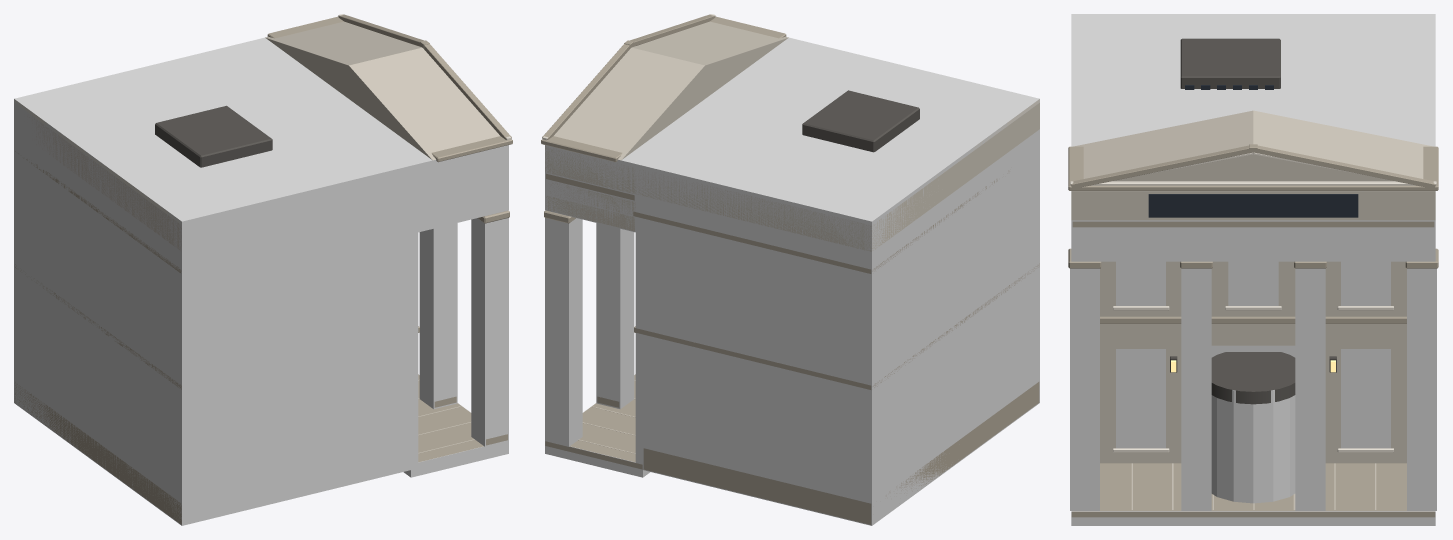
3 views of the same model, side by side, from view 1: azimuth 30°, elevation 25°; view 2: azimuth 150°, elevation 25°; view 3: azimuth 270°, elevation 25° (orthographic). The views are drawn at different scales.
Visible parts, largest first — view 1: col_core, T01_body, col_attic, col_column_-4, col_column_-1, col_portico_floor; view 2: col_core, T01_body, col_column_+4, col_attic, col_column_+1, col_portico_floor; view 3: T01_body, col_core, col_attic, col_drum, col_column_+1, col_column_-1, col_column_+4, col_column_-4, col_portico_floor.
Part boxes in pixels (box(x1,y1,x2,y2)): col_core: box(14, 41, 418, 525); T01_body: box(14, 14, 512, 524); col_attic: box(250, 37, 508, 233); col_column_-4: box(471, 218, 508, 446); col_column_-1: box(419, 223, 457, 409); col_portico_floor: box(403, 374, 508, 477); col_core: box(635, 41, 1039, 525); T01_body: box(541, 14, 1039, 524); col_column_+4: box(545, 218, 582, 446); col_attic: box(545, 37, 803, 233); col_column_+1: box(596, 223, 634, 409); col_portico_floor: box(545, 374, 650, 477); T01_body: box(1068, 38, 1438, 517); col_core: box(1071, 14, 1435, 448); col_attic: box(1071, 139, 1435, 261); col_drum: box(1211, 390, 1295, 503); col_column_+1: box(1295, 268, 1325, 510); col_column_-1: box(1181, 268, 1211, 510); col_column_+4: box(1407, 268, 1436, 510); col_column_-4: box(1070, 268, 1099, 510); col_portico_floor: box(1071, 511, 1435, 525).
Size of the model in its own units: 9.08 by 9.2 by 8.12.
